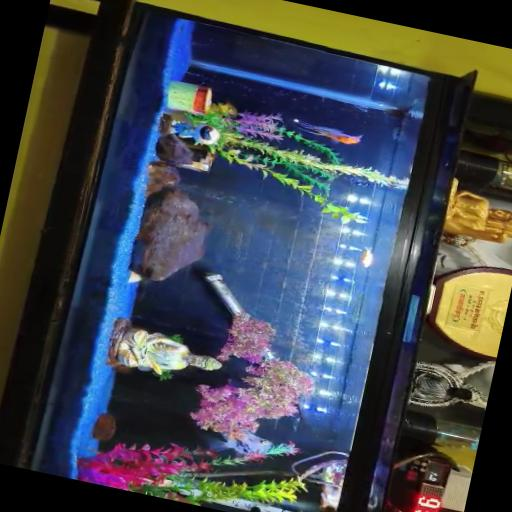Fish: (293, 119, 361, 144), (207, 431, 272, 456), (359, 247, 372, 267)
